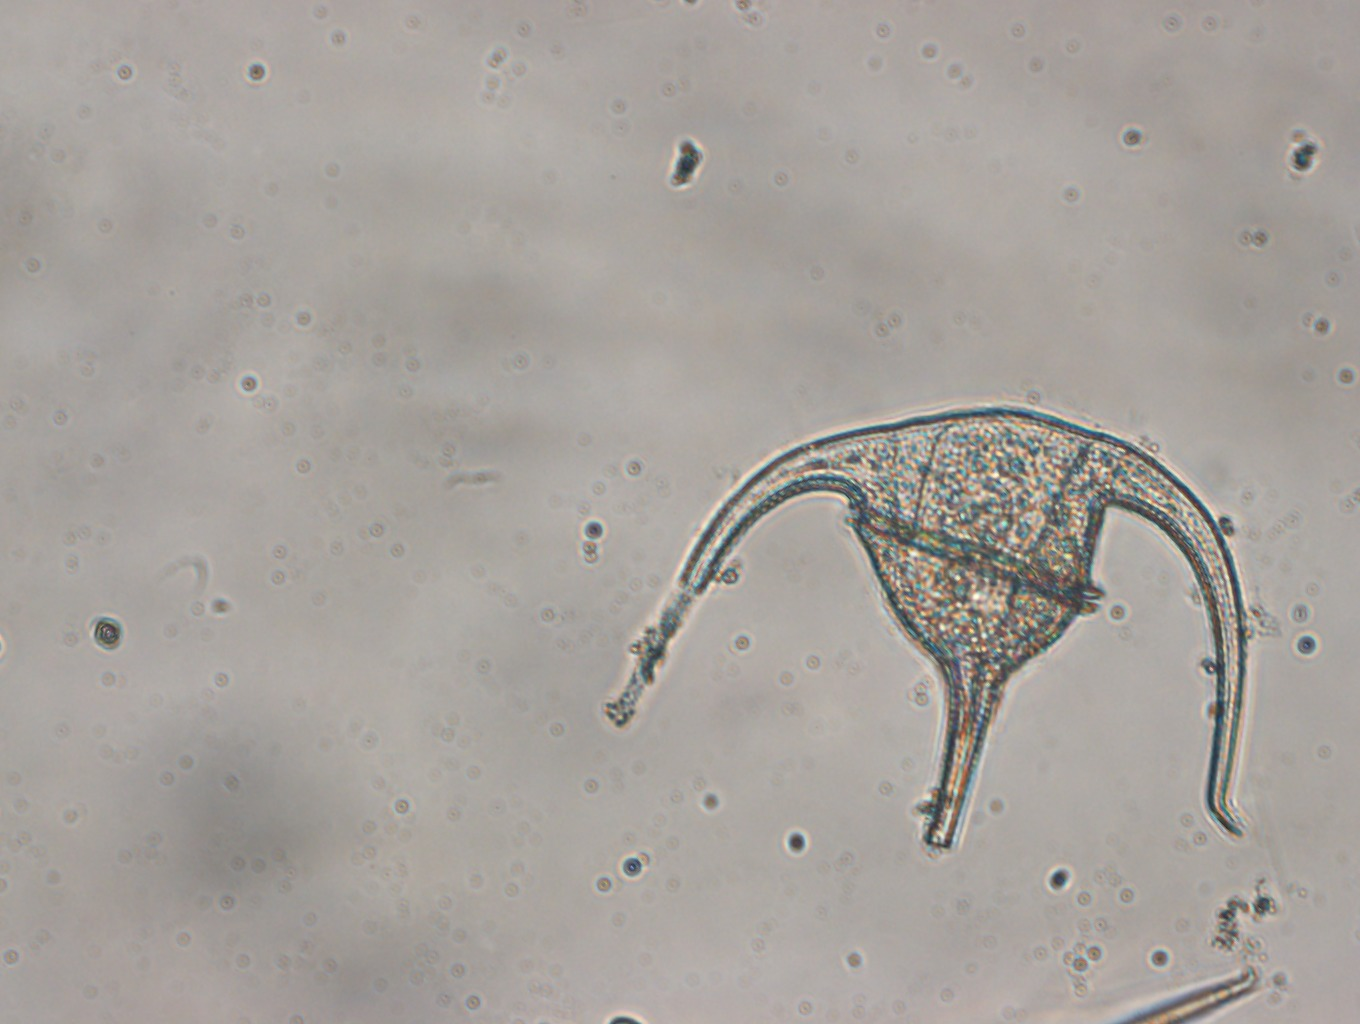ceratium tripos: (676, 404, 1248, 859)
